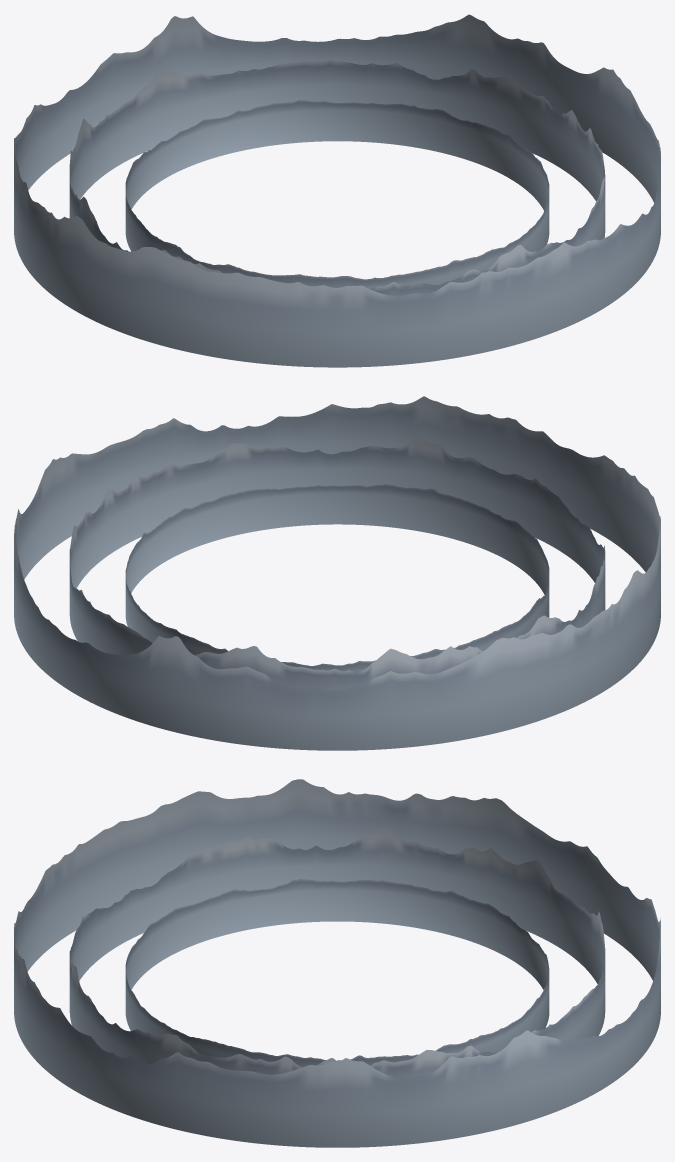
3 views of the same model, one above another, from view 1: azimuth 30°, elevation 25°; view 2: azimuth 150°, elevation 25°; view 3: azimuth 270°, elevation 25° (orthographic).
Visible parts, largest first — view 1: Backdrop_L2_2; view 2: Backdrop_L2_2; view 3: Backdrop_L2_2.
Boxes of the visible parts, left/top/right/bottom form: Backdrop_L2_2: left=14, top=14, right=660, bottom=367; Backdrop_L2_2: left=14, top=396, right=660, bottom=750; Backdrop_L2_2: left=14, top=779, right=660, bottom=1147.
Bounding box in the file's own units: 2320 × 382 × 2320.
